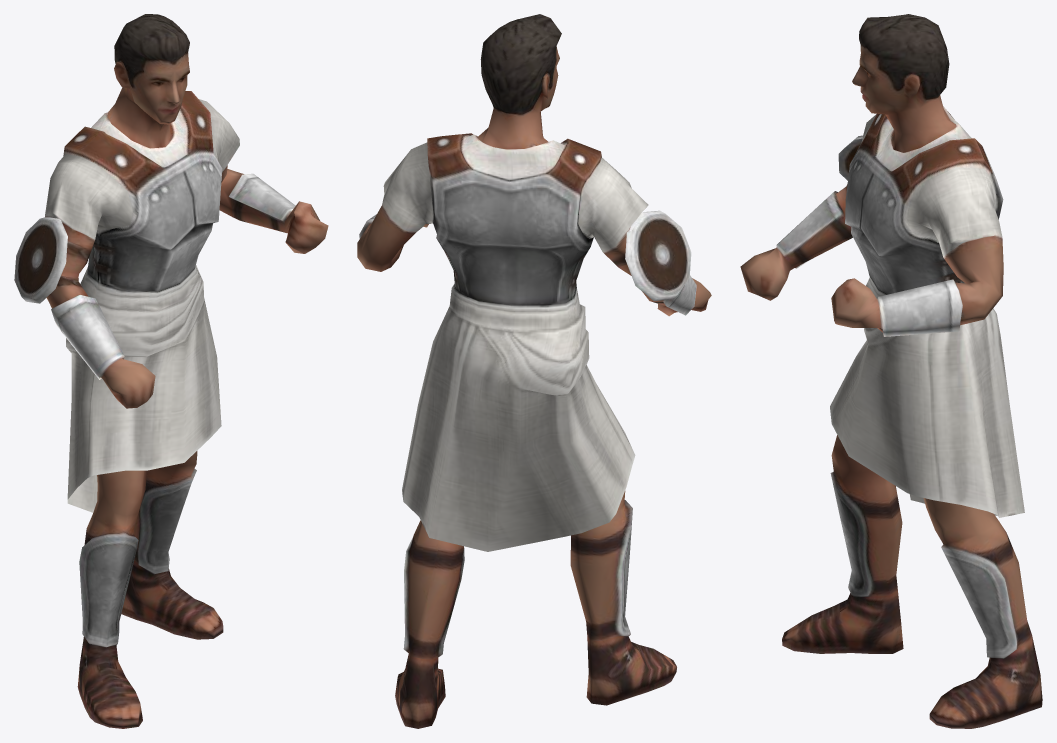
File: body-mediuminfantry.glb
3 renders of one model, left to right at view 1: azimuth 30°, elevation 25°; view 2: azimuth 150°, elevation 25°; view 3: azimuth 270°, elevation 25°, orthographic. The views are drawn at different scales.
Size of the model in its own units: 1.01 by 2.19 by 0.8973.
1 material, 1 textured.
